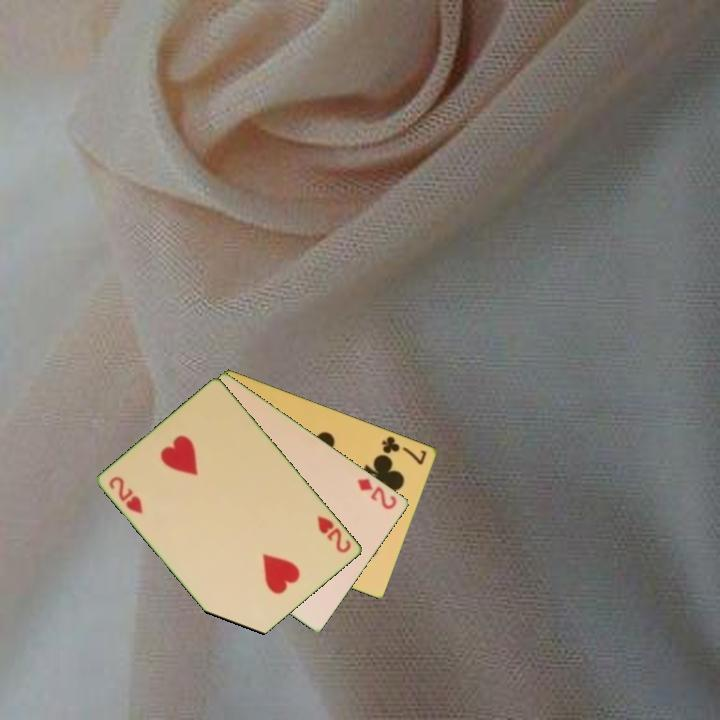2d: (354, 475, 400, 513)
2h: (105, 472, 146, 517), (314, 512, 354, 556)
7c: (379, 432, 430, 467)
